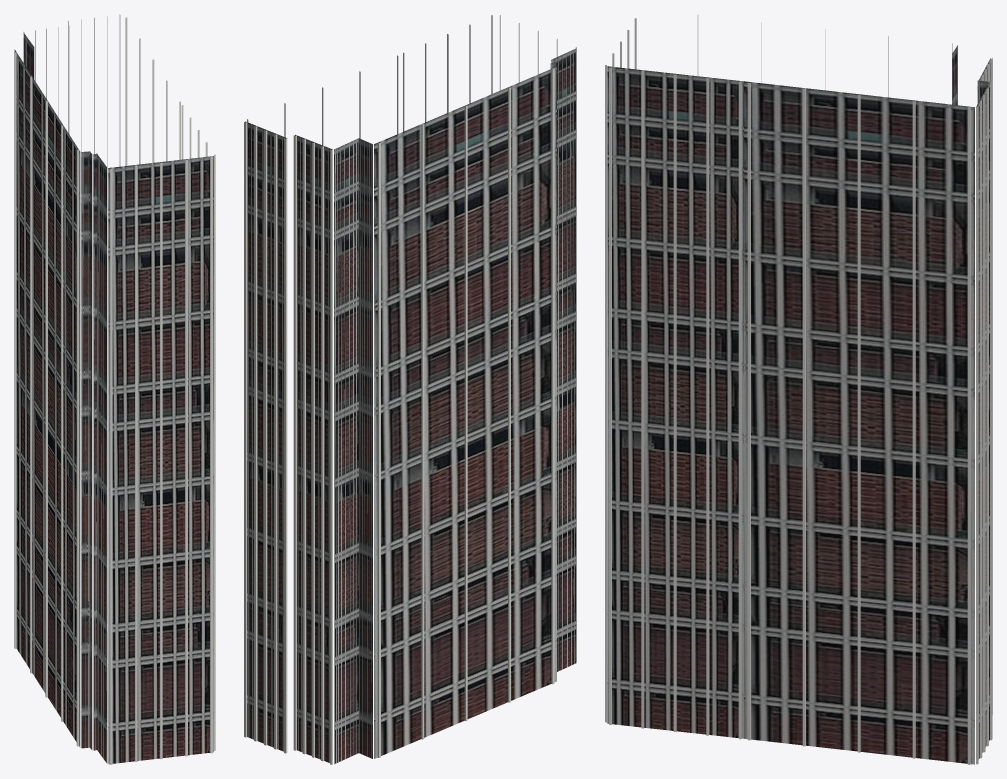
3 renders of one model, left to right at view 1: azimuth 30°, elevation 25°; view 2: azimuth 150°, elevation 25°; view 3: azimuth 270°, elevation 25°, orthographic. The views are drawn at different scales.
Visible parts, largest first — view 1: Surveyed facade, Projecting piers; view 2: Surveyed facade, Projecting piers; view 3: Surveyed facade, Projecting piers.
Boxes of the visible parts, <box> form: Surveyed facade: <box>14,33,213,764</box>; Projecting piers: <box>14,14,215,764</box>; Surveyed facade: <box>245,48,576,764</box>; Projecting piers: <box>244,15,576,764</box>; Surveyed facade: <box>607,45,990,764</box>; Projecting piers: <box>605,14,992,764</box>.
Size of the model in its own units: 54.3 by 178 by 95.14.
Materials: 2 (1 with a texture image).
